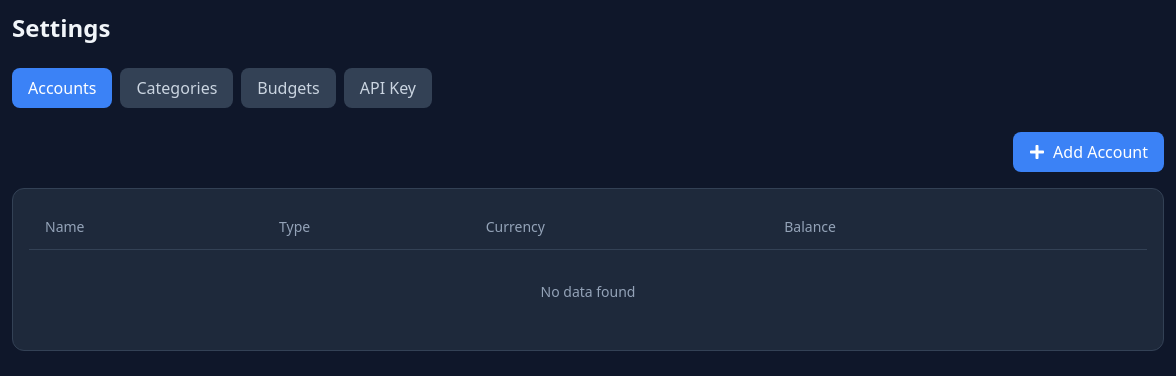
Scenario: Settings › handles nested categories flattening
The image size is (1176, 376).
Click the tab "categories".
click(177, 88)  # box top-left (120, 68), bottom-right (233, 108)
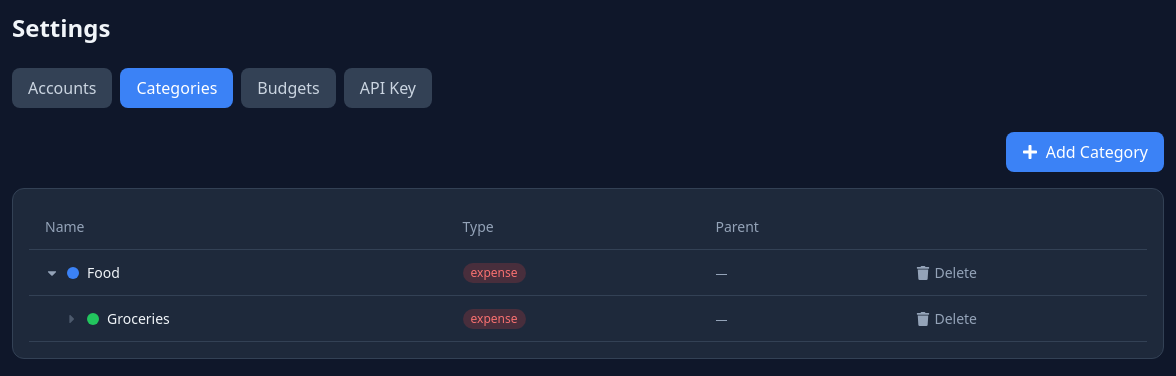
Result: the text "Food" is shown at top-left (87, 262), bottom-right (120, 282)
Result: the text "Groceries" is shown at top-left (107, 308), bottom-right (170, 328)
